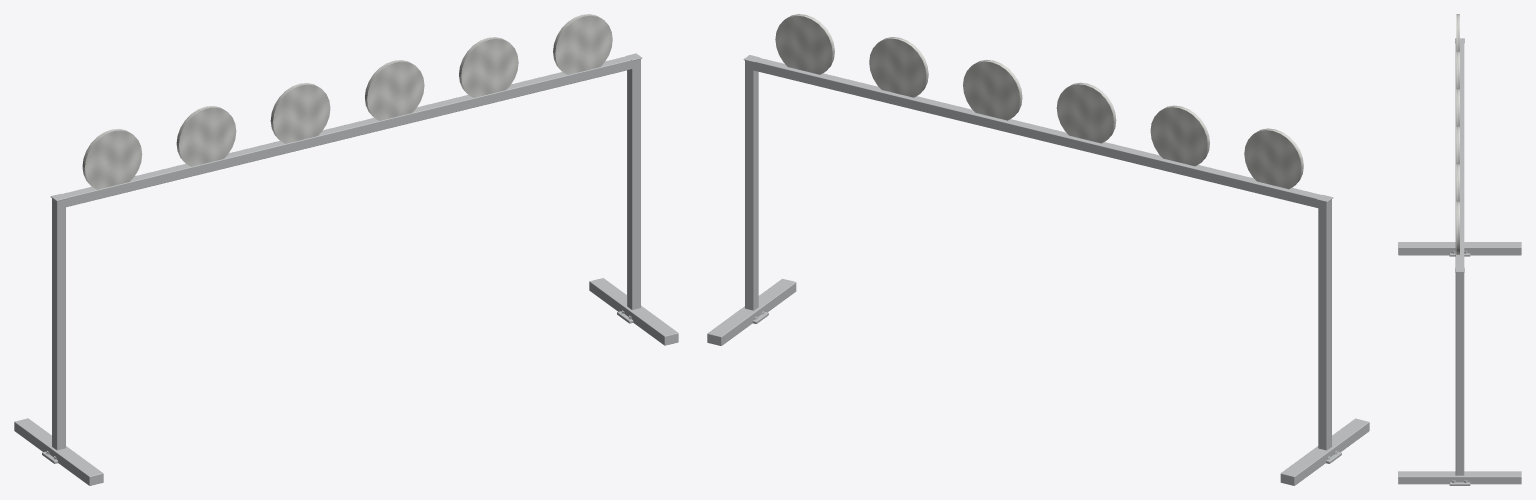
The model's file is fps-weapon-set-and-firing-range-plate-rack-ea308d85__19500.glb.
The picture shows the model from 3 angles, left to right: view 1: azimuth 30°, elevation 25°; view 2: azimuth 150°, elevation 25°; view 3: azimuth 270°, elevation 25°; orthographic projection. The views are drawn at different scales.
Parts seen in each view (by area): view 1: plate-rack; view 2: plate-rack; view 3: plate-rack.
Part boxes in pixels (<box>): plate-rack: <box>14,14,678,485</box>; plate-rack: <box>707,14,1369,485</box>; plate-rack: <box>1398,14,1521,485</box>.
Size of the model in its own units: 2.28 by 1.15 by 0.4999.
Materials: 2 (1 with a texture image).
